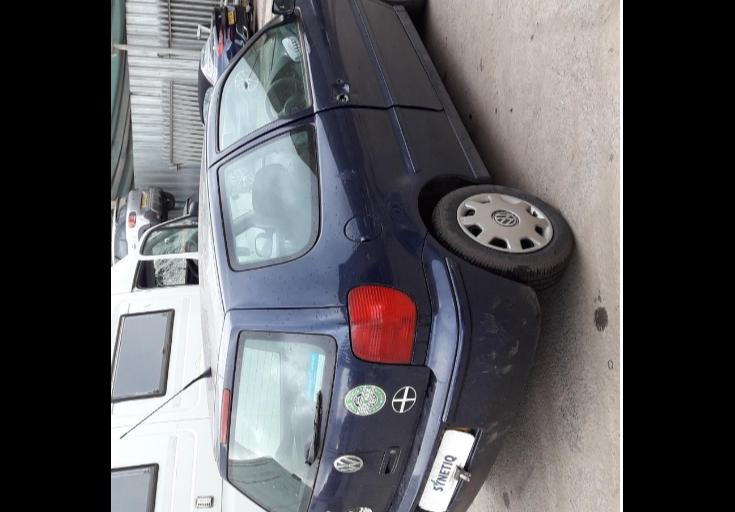Broken part: (208, 102, 448, 168)
Corrosion: (518, 284, 542, 362)
Flaking: (330, 158, 366, 190)
Missing part: (334, 74, 356, 104)
Scratch: (480, 336, 524, 382), (478, 296, 509, 344), (486, 414, 514, 446), (518, 312, 530, 330)
